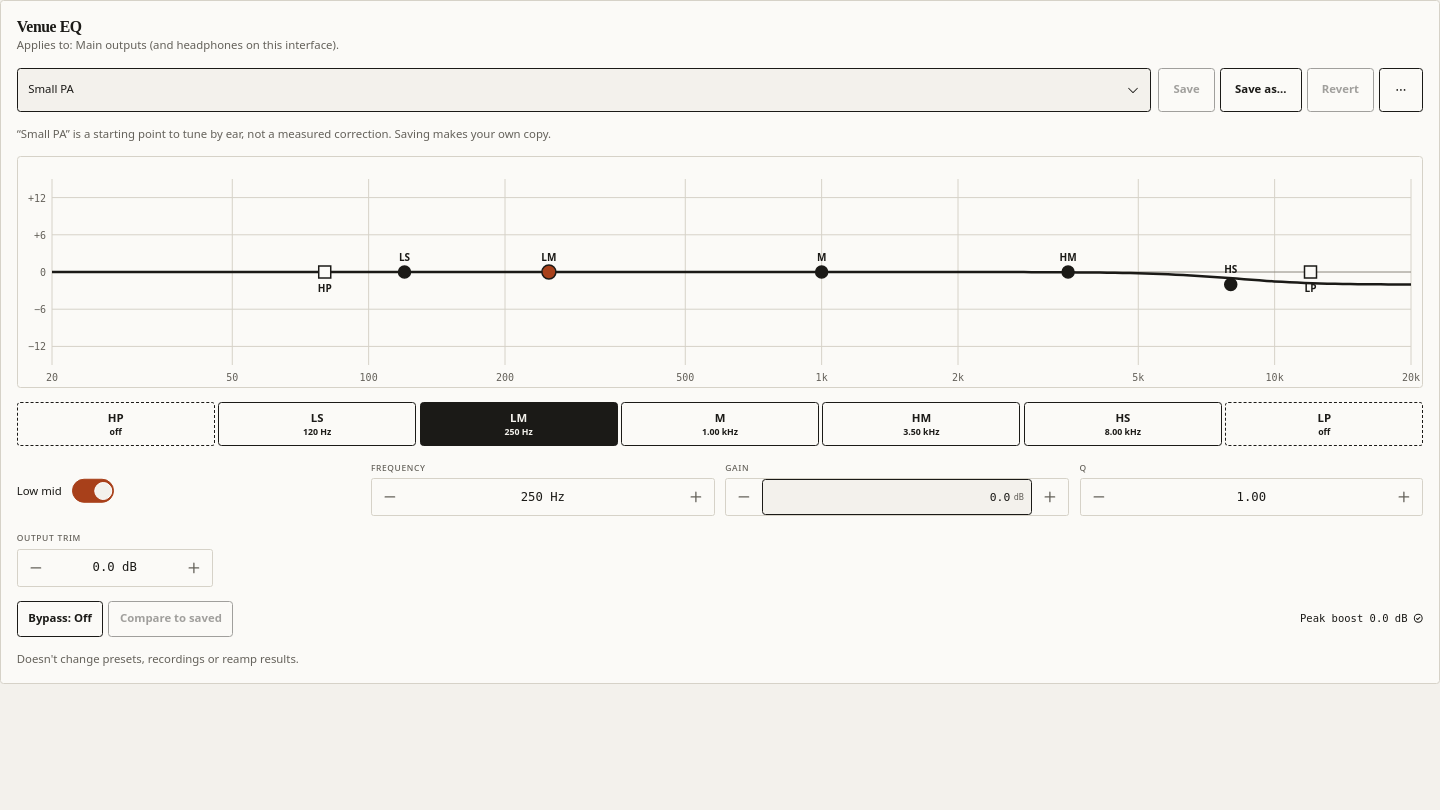
Test: labels built-ins as starting points
This screenshot has width=1440, height=810.
expect the dropdown named "Venue profile" is shown: met, box 17,68 -> 1152,112
A built-in can be duplicated but not renamed or deleted.
Click the button named "Profile actions": (1401, 90) 1379,68 -> 1423,112
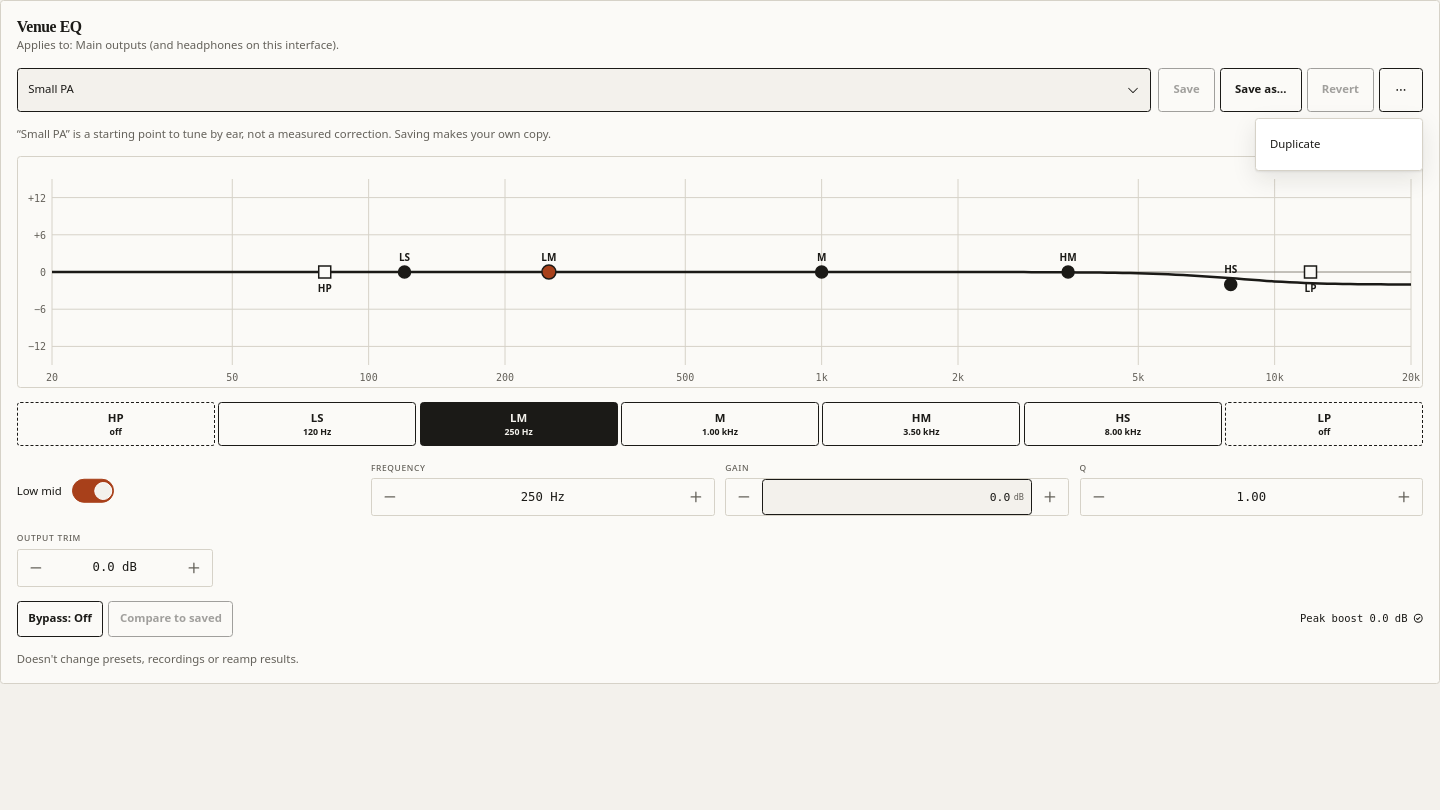
expect the menu items read "Duplicate", in this order: met, box 1270,136 -> 1320,151
